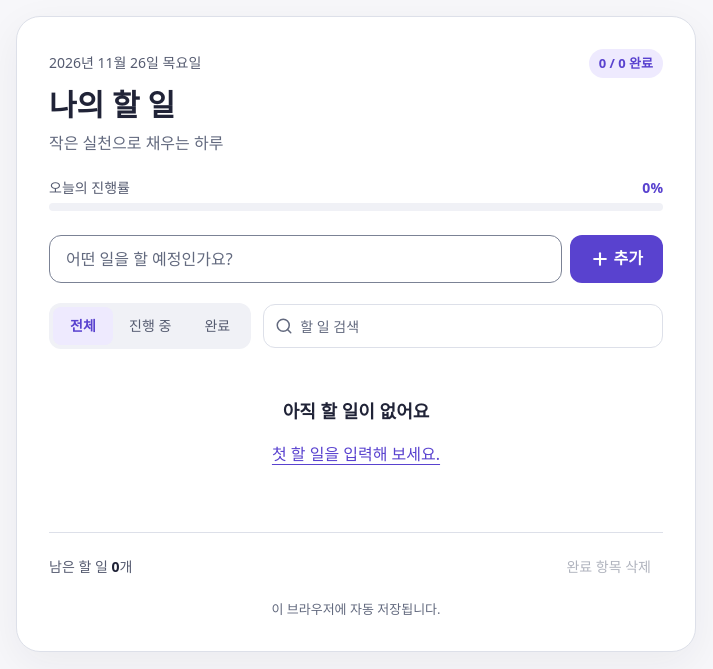
Scenario: TodoApp 통합 컴포넌트 테스트 › 한글 IME 조합 중 Enter 키 입력 시 중복 등록되지 않는다
Step 1. Type "한글입력테스트" into the field with placeholder "어떤 일을 할 예정인가요?" → (305, 259), box [49, 235, 562, 283]
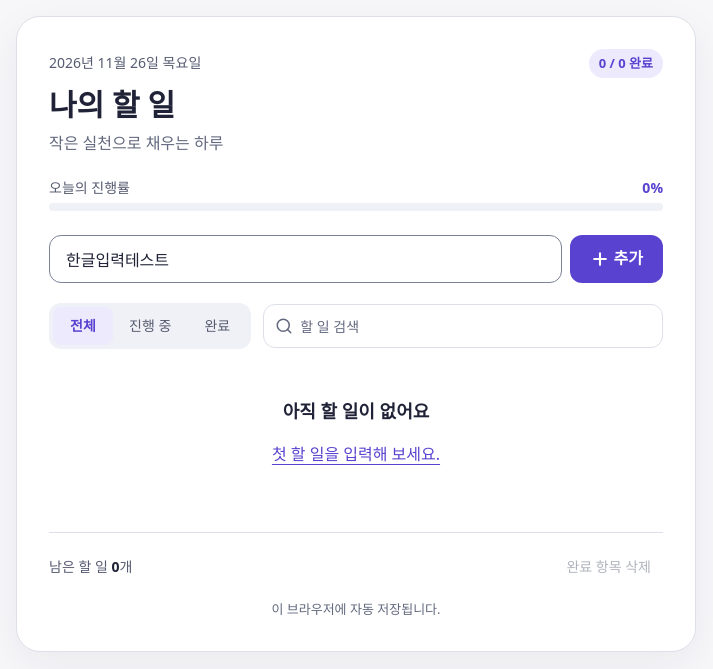
# isComposing: true 인 상태에서 Enter 발생
Step 2. Press Enter in the field with placeholder "어떤 일을 할 예정인가요?", box [49, 235, 562, 283]
# 조합 완료 후 Enter 발생
Step 3. Press Enter in the field with placeholder "어떤 일을 할 예정인가요?", box [49, 235, 562, 283]
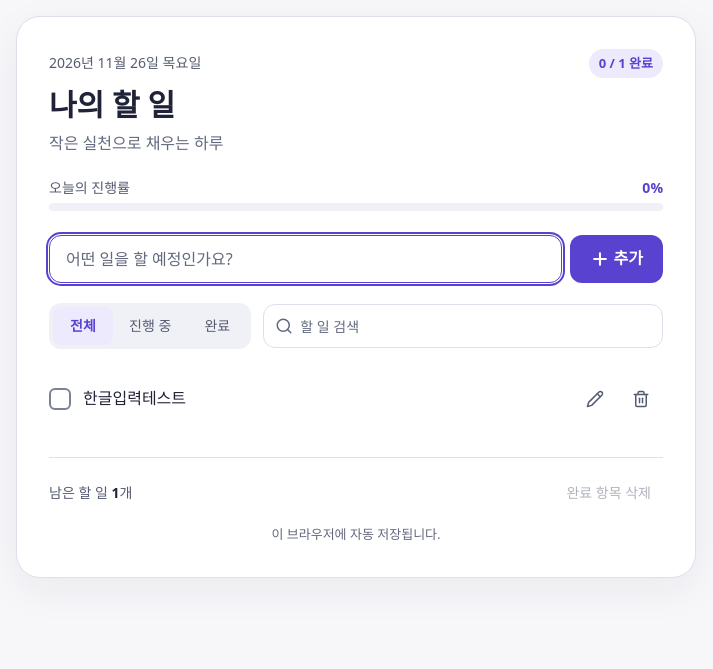
Check: the text "한글입력테스트" is shown, box [83, 388, 186, 410]
Check: the field with placeholder "어떤 일을 할 예정인가요?" is empty, box [49, 235, 562, 283]
